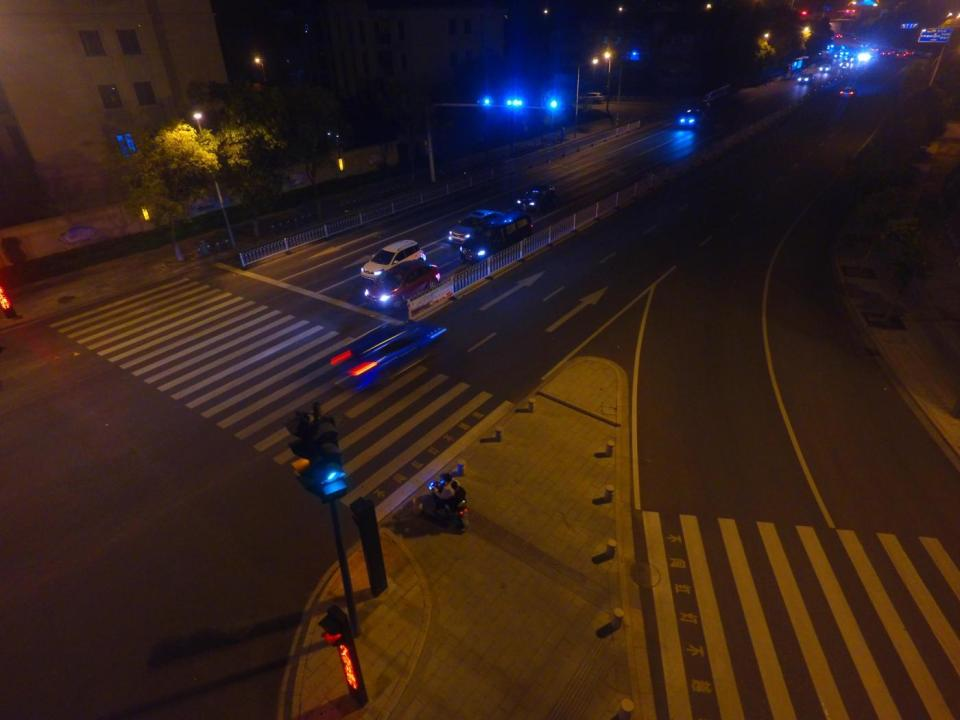car: (337, 321, 451, 391), (366, 258, 440, 312), (359, 241, 423, 284), (451, 210, 499, 245), (516, 184, 557, 209), (680, 108, 702, 128), (576, 90, 603, 105), (839, 87, 856, 101), (796, 73, 813, 85), (819, 64, 829, 73)
van: (457, 212, 533, 264)
